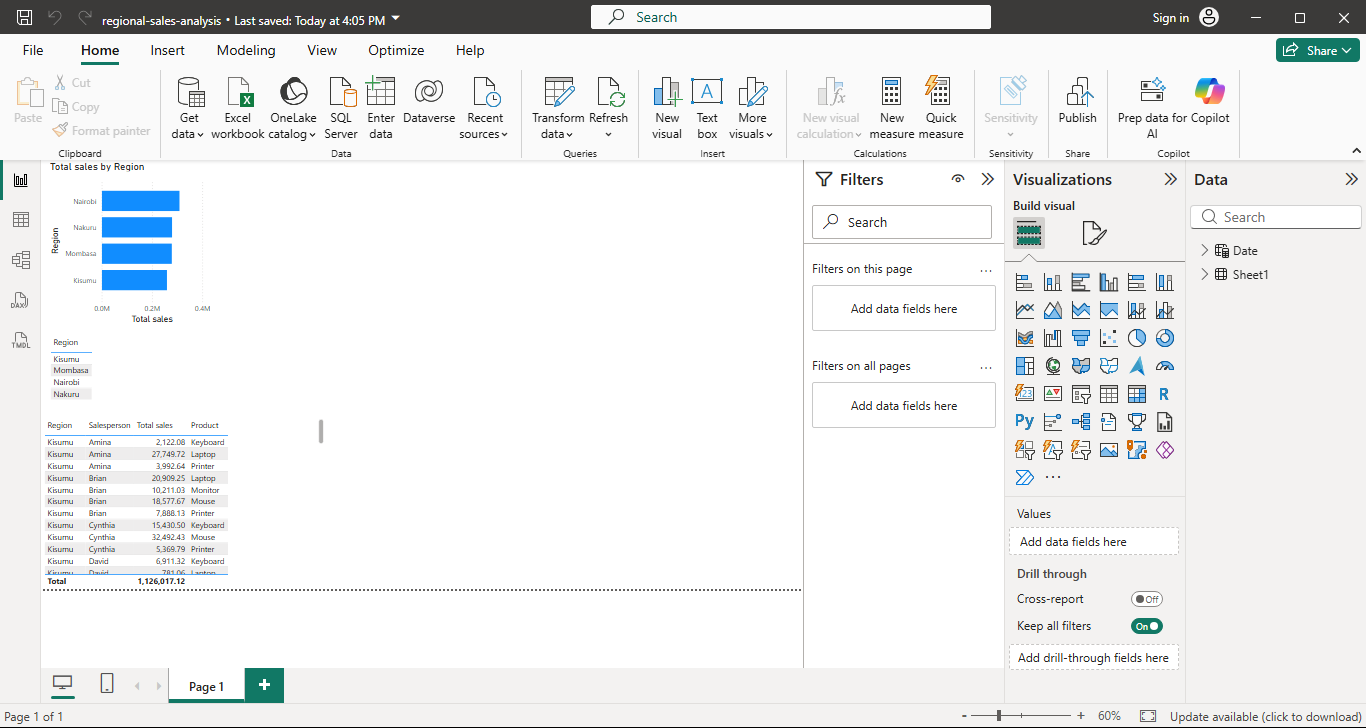

The page's visual inventory and layout, read from the dashboard file:
{"tool":"powerbi","page":{"name":"Page 1","canvas":[1280,720],"ordinal":0},"visuals":[{"type":"clusteredBarChart","fields":{"Category":["Sheet1.Region"],"Y":["Sheet1.Total sales"]},"box":[10,0,280,280],"z":0},{"type":"tableEx","fields":{"Values":["Sheet1.Region"]},"box":[10,290,280,280],"z":1},{"type":"tableEx","fields":{"Values":["Sheet1.Region","Sheet1.Salesperson","Sheet1.Total sales","Sheet1.Product"]},"box":[0,430,480.4,290.6],"z":2}]}

Visuals, with their boxes on the page's 1280x720 design canvas (x1, y1, x2, y2). These are canvas units, not pixel positions in the 1366x728 screenshot, which may show the page scaled, cropped or inside an application window:
clusteredBarChart - Sheet1.Region x Sheet1.Total sales: <region>10, 0, 290, 280</region>
tableEx - Sheet1.Region: <region>10, 290, 290, 570</region>
tableEx - Sheet1.Region x Sheet1.Salesperson: <region>0, 430, 480, 721</region>
